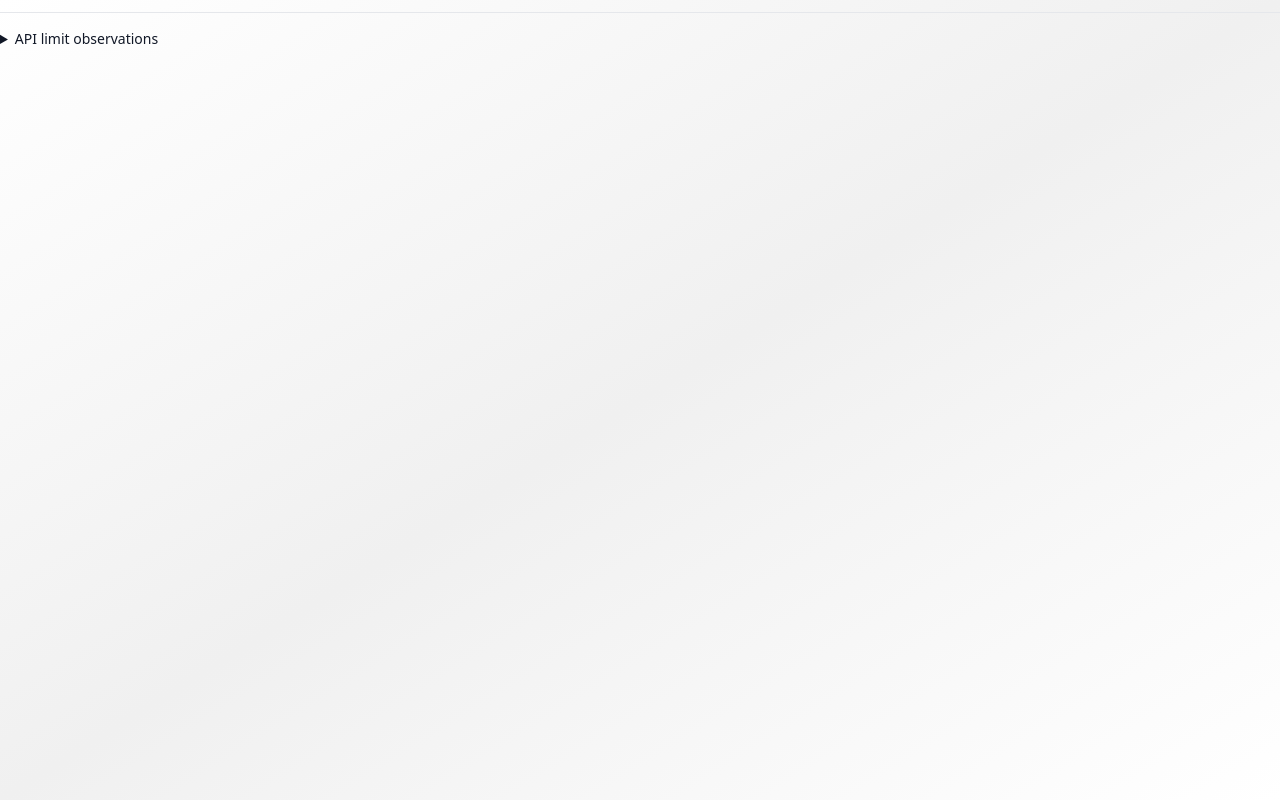
provider HTTP limit observations › queries only when expanded and distinguishes partial
Click the heading "API limit observations" at coordinates (86, 38), box [15,29,158,48]
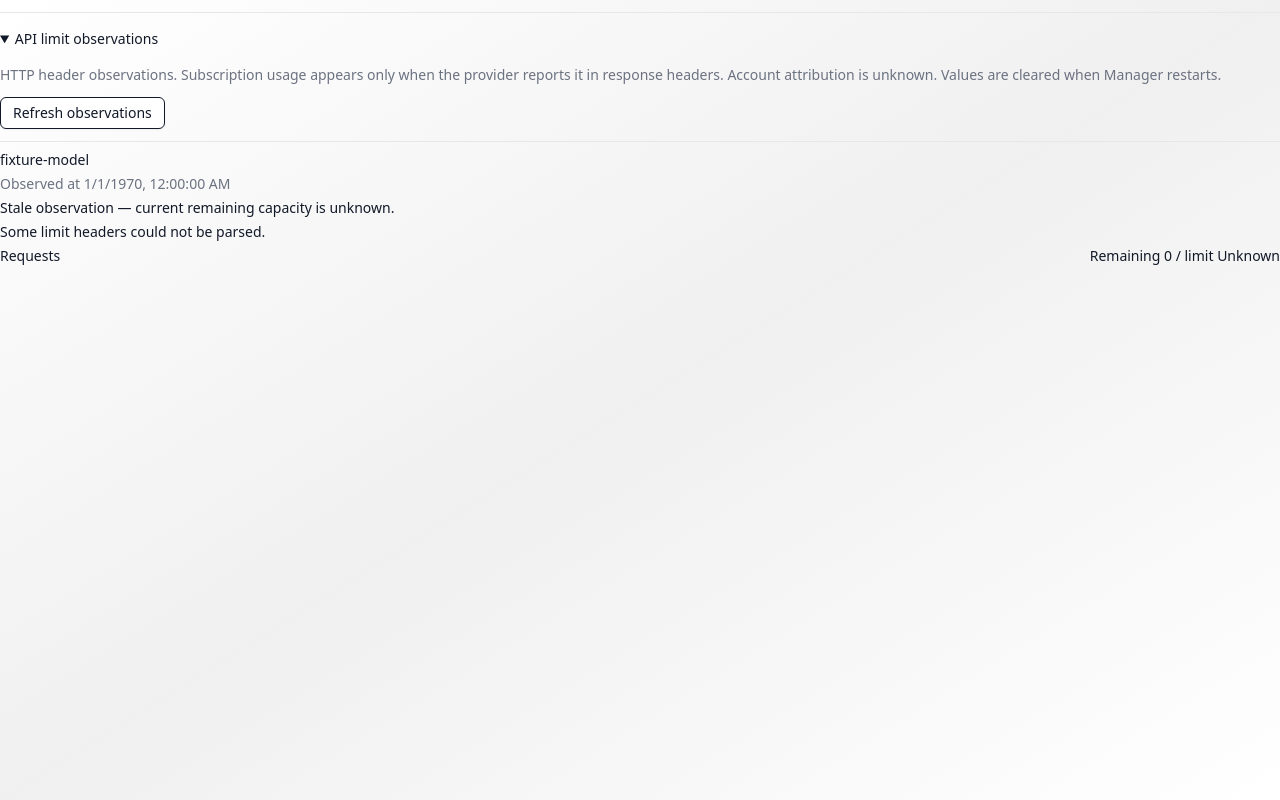
expect the text "fixture-model" is shown: met, box [0,150,89,169]
expect the text "Remaining 0 / limit Unknown" is shown: met, box [1090,246,1279,266]
expect the text "Stale observation — current remaining capacity is unknown." is shown: met, box [0,198,394,217]
